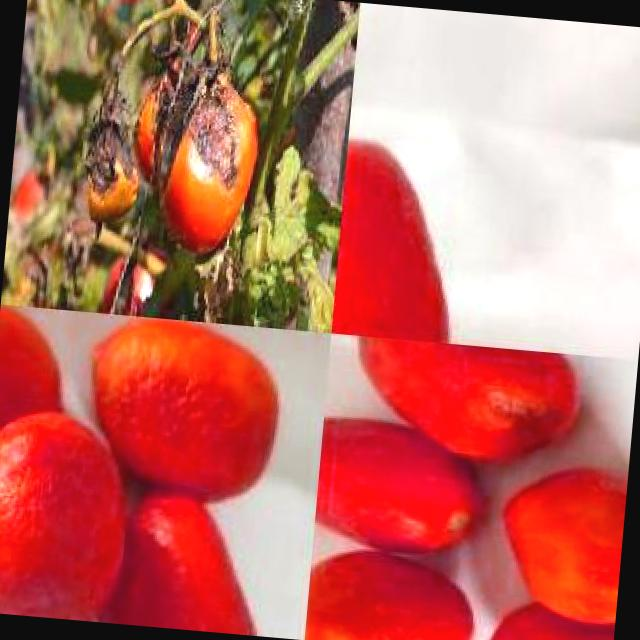Rotten_Tomato: (74, 312, 291, 513), (344, 335, 588, 479), (330, 126, 484, 345), (311, 404, 498, 572), (0, 401, 139, 623), (92, 480, 286, 637), (488, 450, 629, 632), (151, 55, 266, 262), (304, 538, 486, 640), (0, 304, 92, 495), (0, 445, 79, 618), (73, 91, 151, 232), (481, 587, 616, 640)
